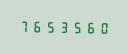five: (43, 19, 55, 33), (69, 20, 81, 34)
seven: (17, 19, 29, 33)
six: (30, 19, 42, 33), (82, 20, 94, 34)
three: (56, 19, 68, 34)
zero: (95, 20, 107, 34)
